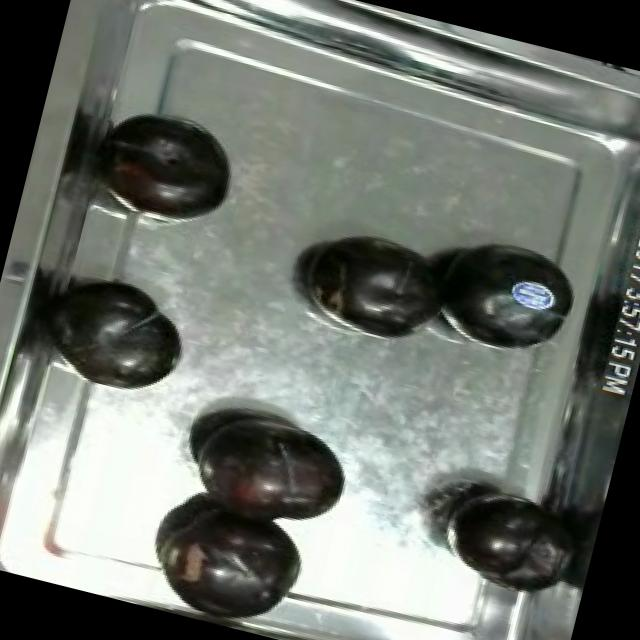Fruit: (170, 391, 371, 554), (136, 478, 320, 634), (418, 220, 590, 372), (290, 216, 470, 353), (40, 262, 204, 412), (86, 95, 252, 242), (428, 469, 598, 610)
